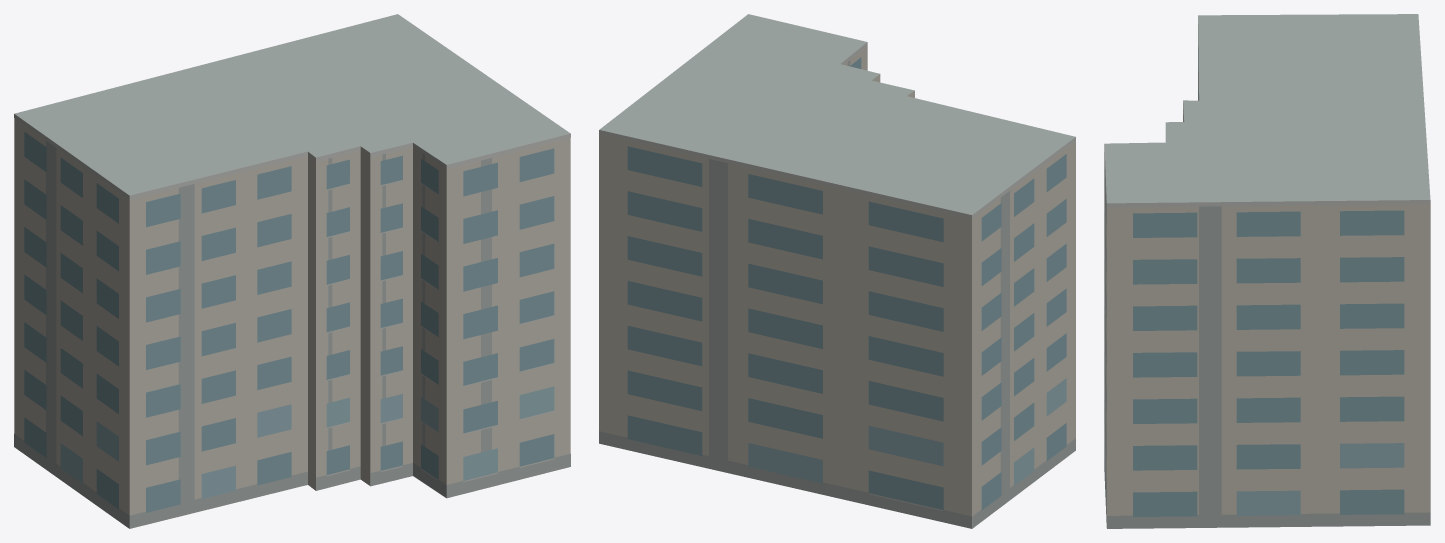
The model's file is survey-upis-32912560.glb.
3 renders of one model, left to right at view 1: azimuth 30°, elevation 25°; view 2: azimuth 150°, elevation 25°; view 3: azimuth 270°, elevation 25°, orthographic. The views are drawn at different scales.
Parts seen in each view (by area): view 1: survey-upis-32912560.tmp; view 2: survey-upis-32912560.tmp; view 3: survey-upis-32912560.tmp.
Part boxes in pixels (left/top/right/bottom): survey-upis-32912560.tmp: left=14, top=14, right=570, bottom=528; survey-upis-32912560.tmp: left=599, top=14, right=1075, bottom=528; survey-upis-32912560.tmp: left=1104, top=14, right=1430, bottom=528.
Size of the model in its own units: 23.83 by 19.1 by 17.35.
